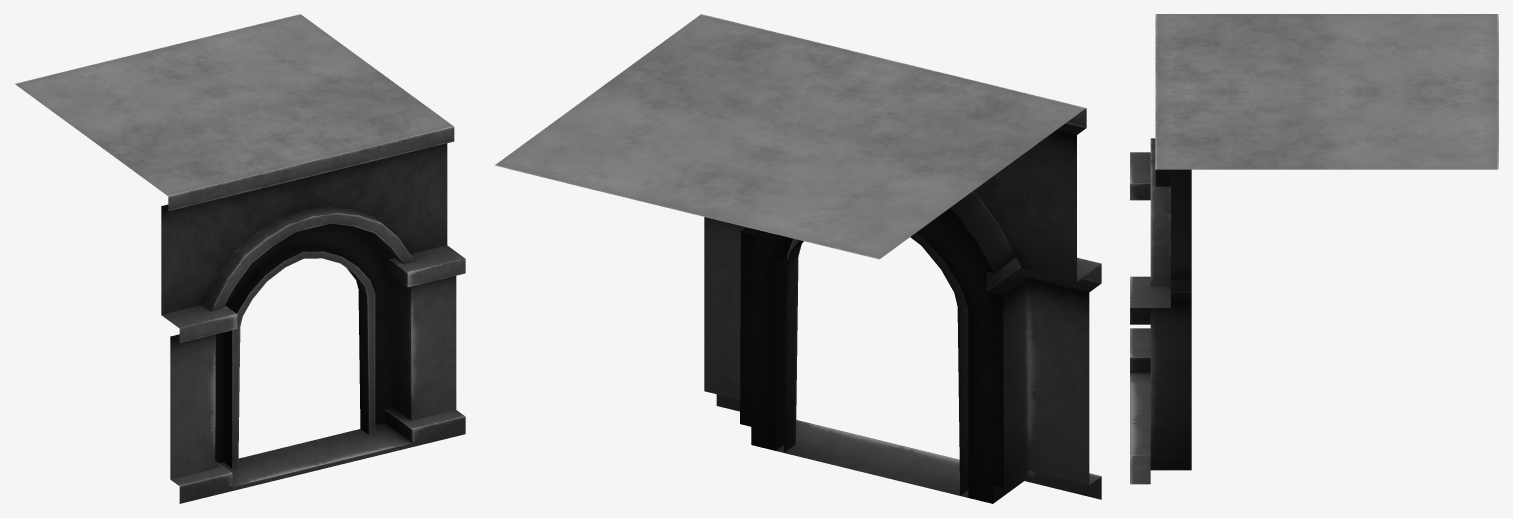
File: DoorEntrance.fbx
The picture shows the model from 3 angles, left to right: view 1: azimuth 30°, elevation 25°; view 2: azimuth 150°, elevation 25°; view 3: azimuth 270°, elevation 25°; orthographic projection. The views are drawn at different scales.
Parts seen in each view (by area): view 1: Ground_LP.005_Cube.001; view 2: Ground_LP.005_Cube.001; view 3: Ground_LP.005_Cube.001.
Part boxes in pixels (x1,y1,x2,y2): Ground_LP.005_Cube.001: [14, 14, 465, 503]; Ground_LP.005_Cube.001: [494, 14, 1101, 503]; Ground_LP.005_Cube.001: [1130, 14, 1498, 484].
Bounding box in the file's own units: 100 × 100 × 100.
Materials: 1 (1 with a texture image).
